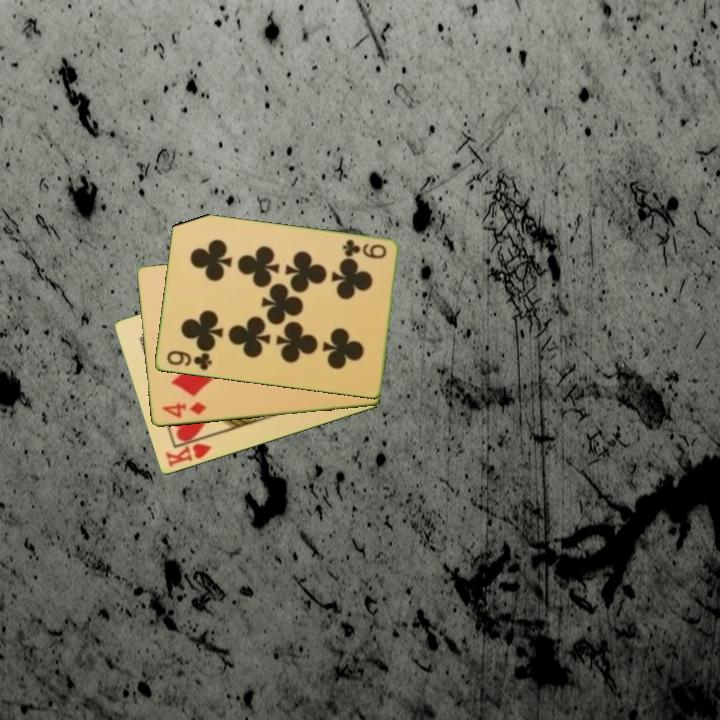4d: (158, 399, 209, 421)
9c: (163, 347, 215, 373), (339, 236, 389, 262)
Kh: (162, 433, 215, 470)
